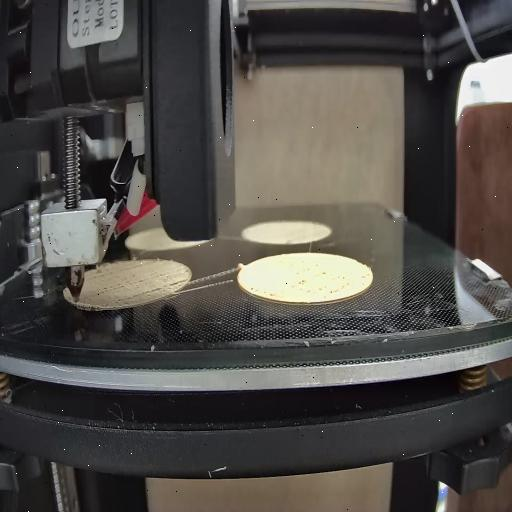under_extrusion: (92, 278, 190, 312), (295, 266, 367, 300), (246, 282, 278, 298)
